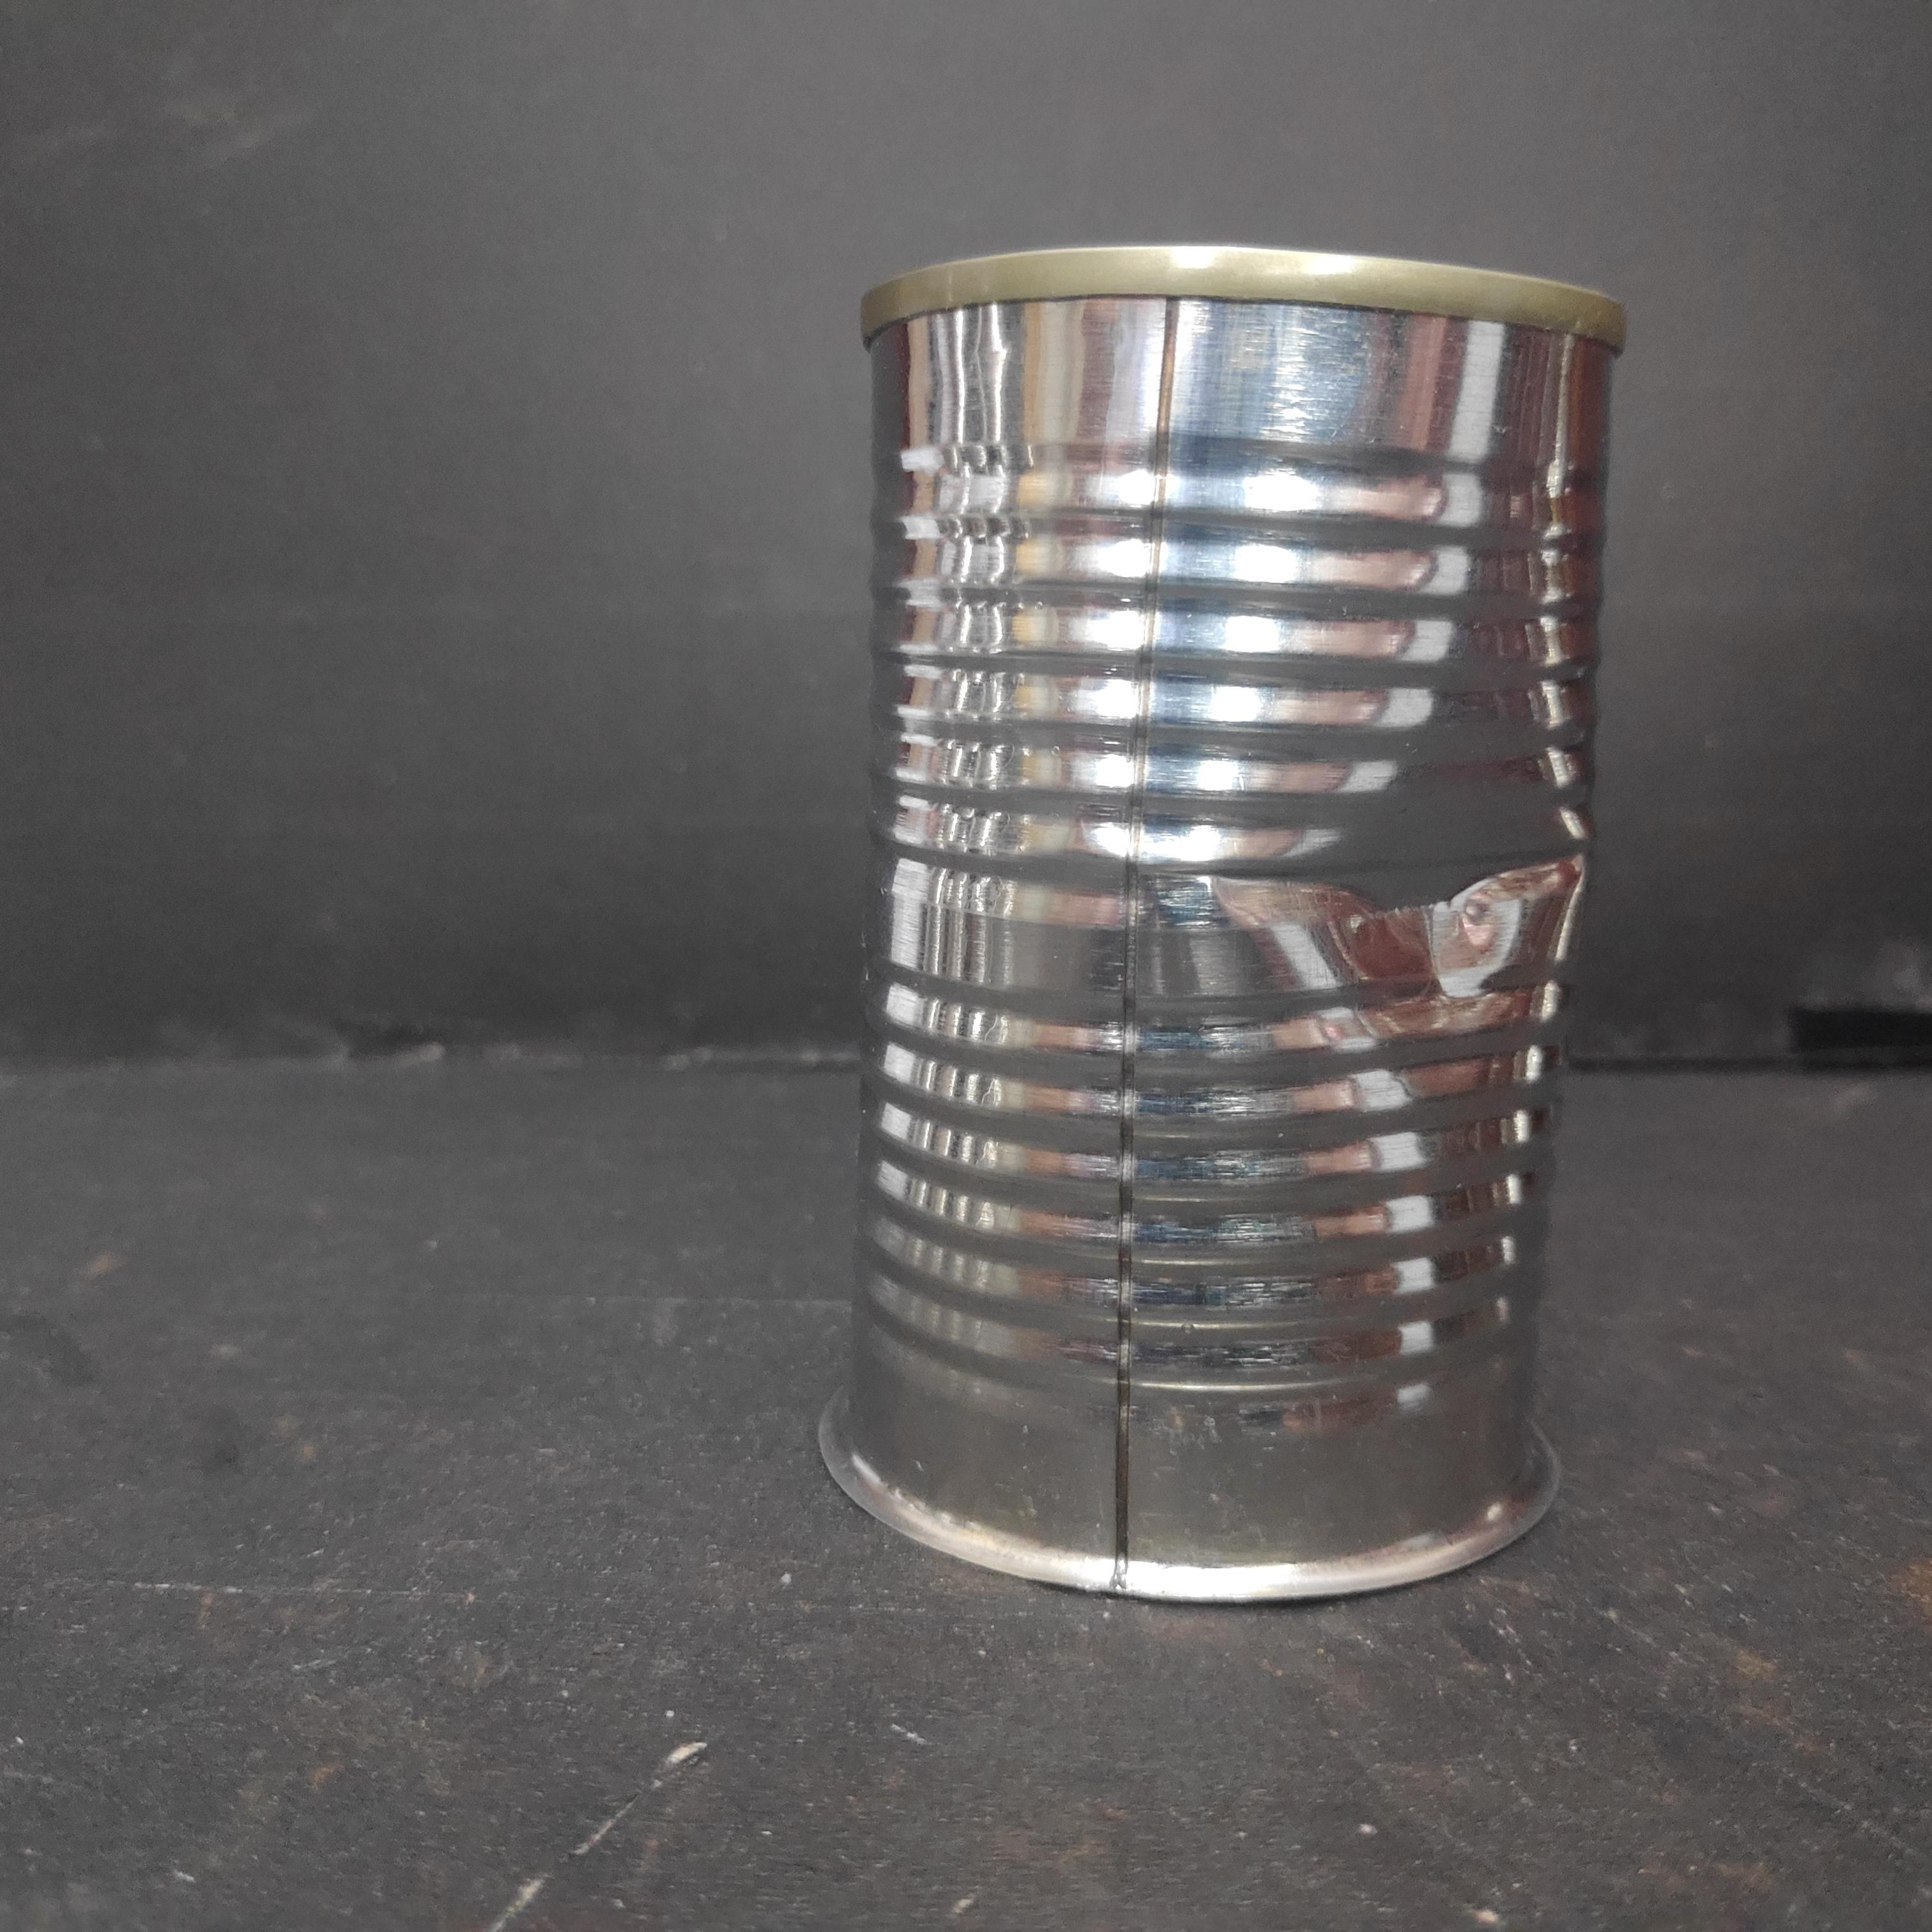Minor Defect: (819, 230, 1642, 1619)
